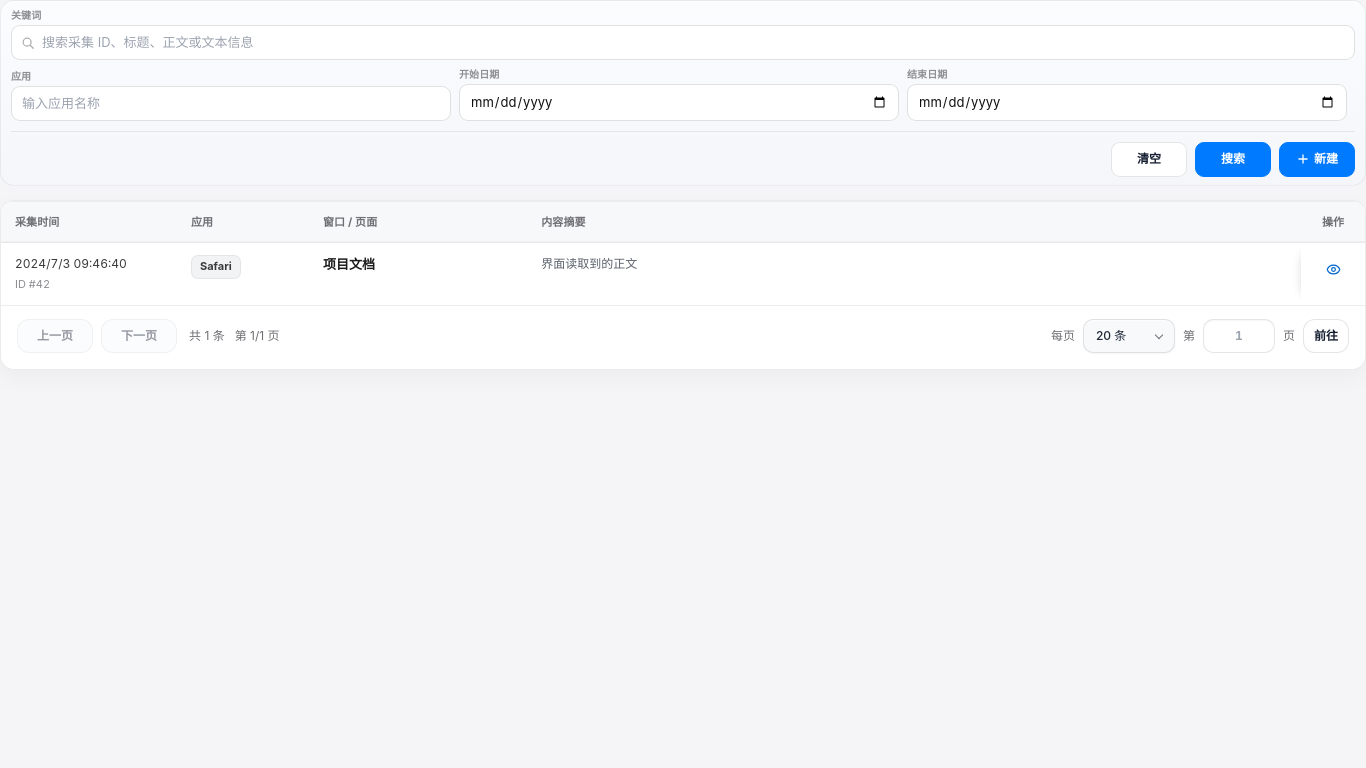
it: 采集记录展示 › 调试模式将 app_switch 展示为“应用切换”
Click the button named "查看采集记录 #42 详情" at (1333, 269), box [1319,255,1347,283]
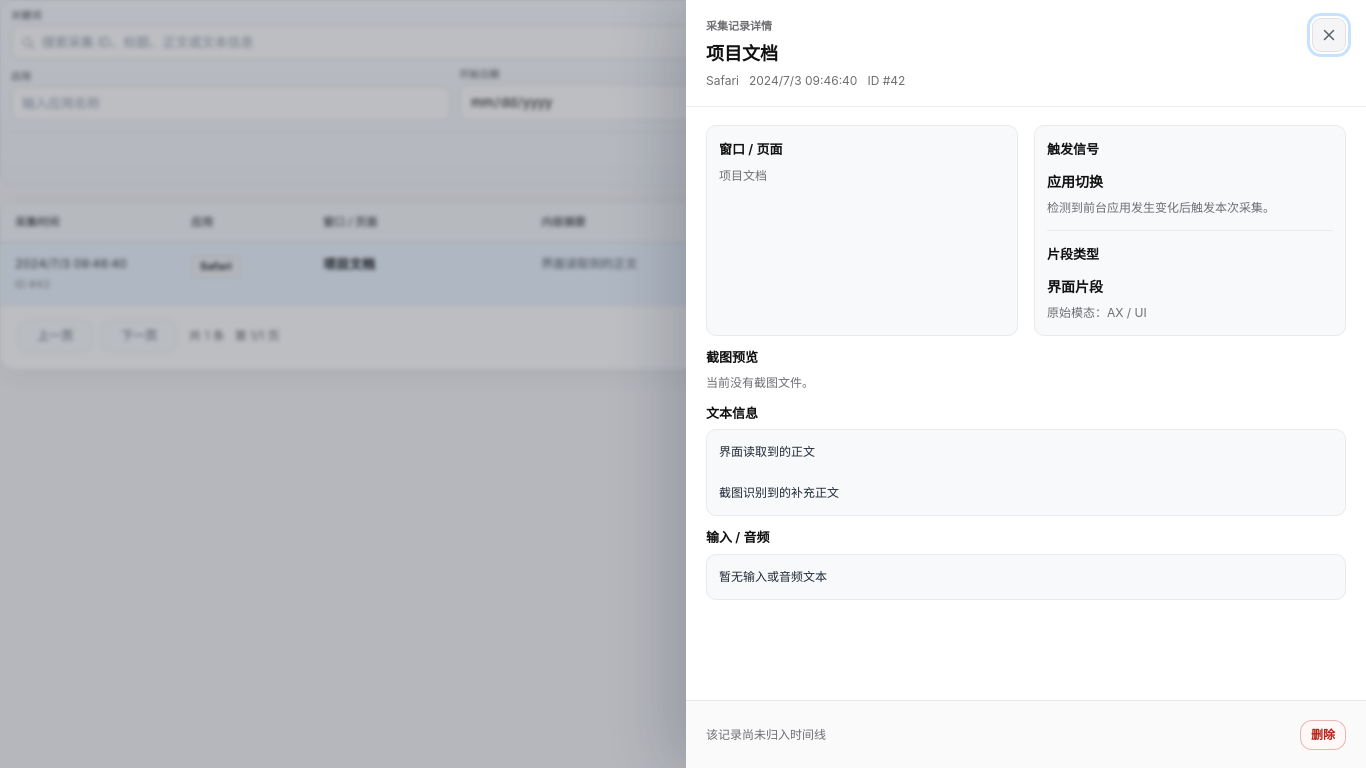
Now the text "触发信号" is shown, box [1047,141,1099,157]
Now the text "应用切换" is shown, box [1047,173,1103,190]
Now the text "界面片段" is shown, box [1047,278,1103,295]
